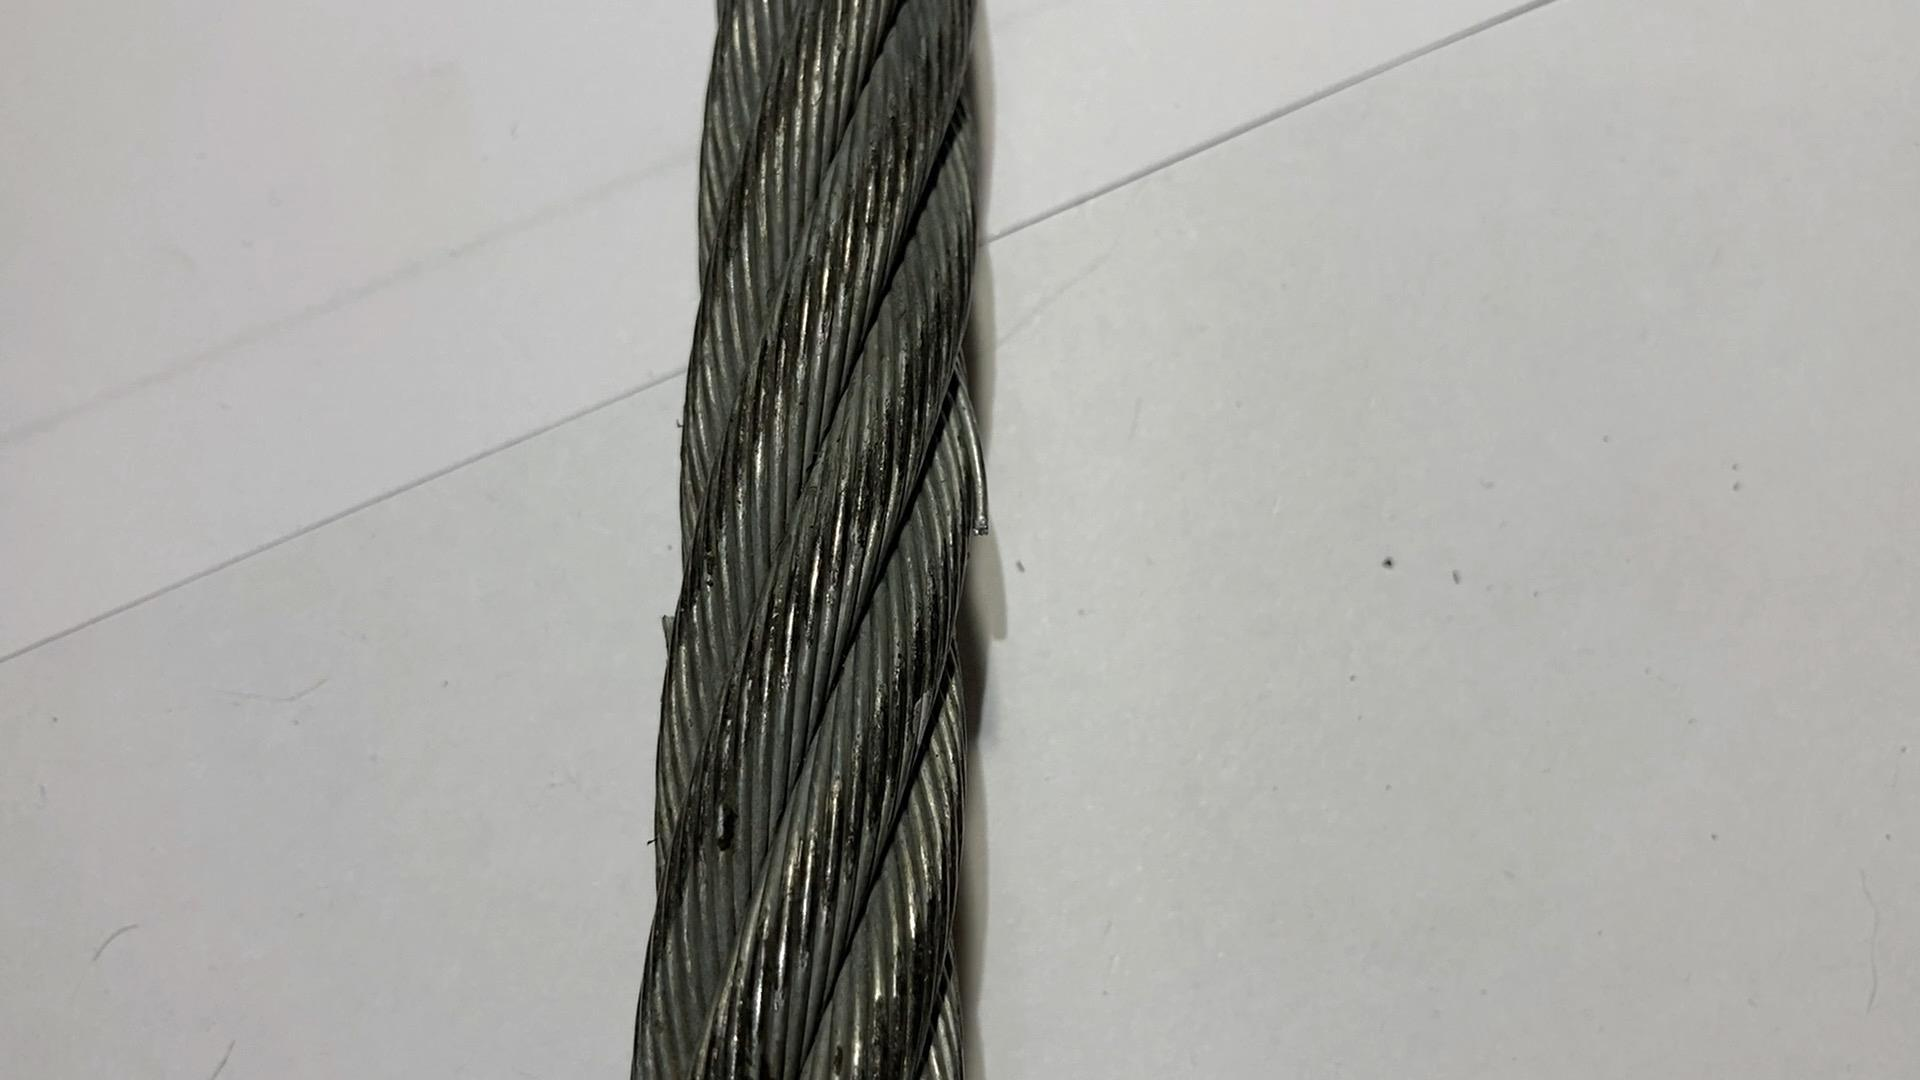break: (942, 363, 1001, 543)
